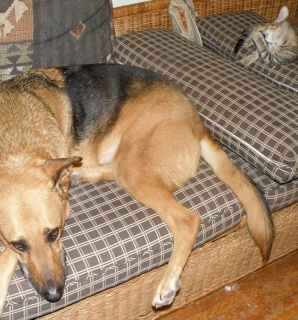Cat: (231, 3, 298, 70)
